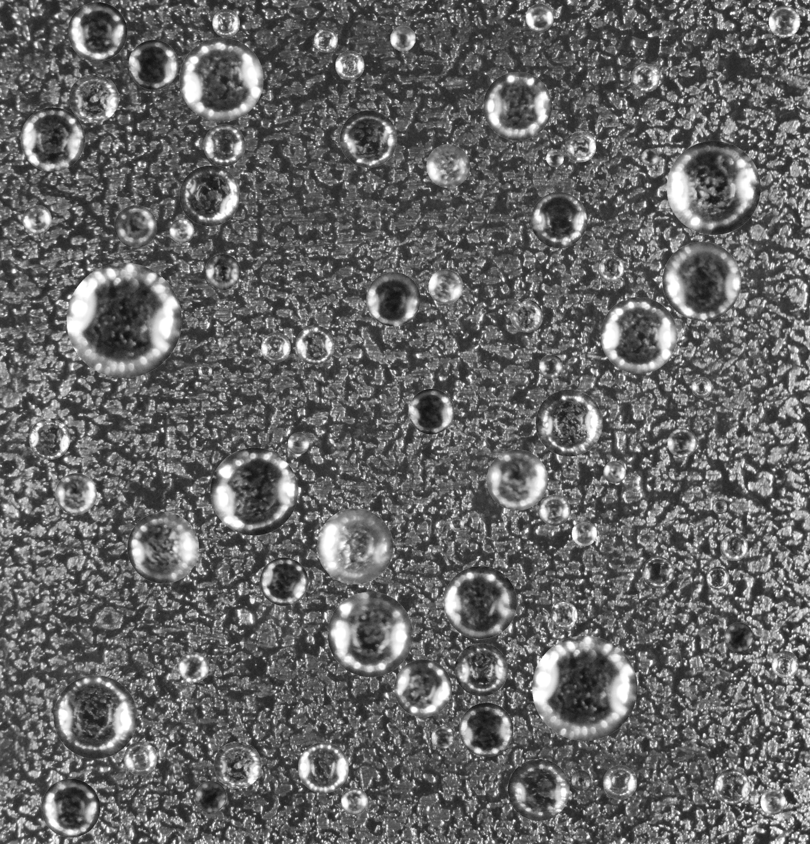Bubble: (66, 262, 181, 377), (532, 635, 637, 740), (666, 140, 760, 234), (210, 447, 297, 535), (327, 591, 412, 677), (179, 37, 263, 121), (53, 675, 137, 758), (662, 241, 741, 320), (600, 297, 677, 373), (317, 508, 393, 584), (443, 566, 516, 639), (127, 512, 198, 583), (483, 71, 551, 140), (535, 389, 602, 456), (20, 107, 84, 171), (507, 759, 569, 820), (486, 449, 547, 510), (179, 165, 240, 226), (67, 2, 127, 61), (41, 778, 100, 837), (339, 110, 397, 167), (394, 659, 451, 717), (531, 192, 587, 248), (366, 272, 420, 326), (459, 702, 513, 756), (454, 643, 507, 696), (298, 742, 348, 793), (128, 39, 178, 89), (69, 73, 118, 123), (259, 557, 308, 605), (214, 741, 261, 788), (408, 388, 454, 434), (426, 144, 469, 187), (114, 205, 156, 247), (203, 124, 245, 166), (28, 418, 70, 459), (55, 473, 96, 514), (295, 325, 334, 364), (714, 769, 750, 804), (204, 254, 240, 289), (428, 269, 463, 303), (603, 765, 637, 799), (123, 741, 157, 775), (510, 299, 543, 332), (642, 556, 674, 588), (768, 5, 800, 37), (194, 781, 226, 812), (565, 131, 596, 162), (539, 494, 570, 525), (178, 652, 208, 682), (261, 332, 290, 362), (667, 428, 696, 457), (22, 205, 51, 234), (335, 50, 364, 79), (724, 622, 753, 651), (631, 63, 659, 92), (525, 3, 553, 31), (720, 533, 748, 560), (341, 788, 368, 815), (550, 601, 577, 628), (771, 651, 798, 678), (212, 9, 239, 36), (597, 255, 624, 281), (390, 25, 415, 51), (760, 789, 785, 814), (571, 521, 596, 546), (169, 218, 194, 243), (539, 354, 563, 378), (314, 28, 337, 52), (706, 566, 729, 589), (431, 726, 454, 748), (603, 461, 626, 483), (287, 432, 309, 454), (691, 377, 712, 397), (570, 770, 591, 790), (641, 148, 659, 166), (546, 149, 563, 166), (712, 499, 727, 514), (449, 517, 464, 531), (198, 364, 212, 378)
